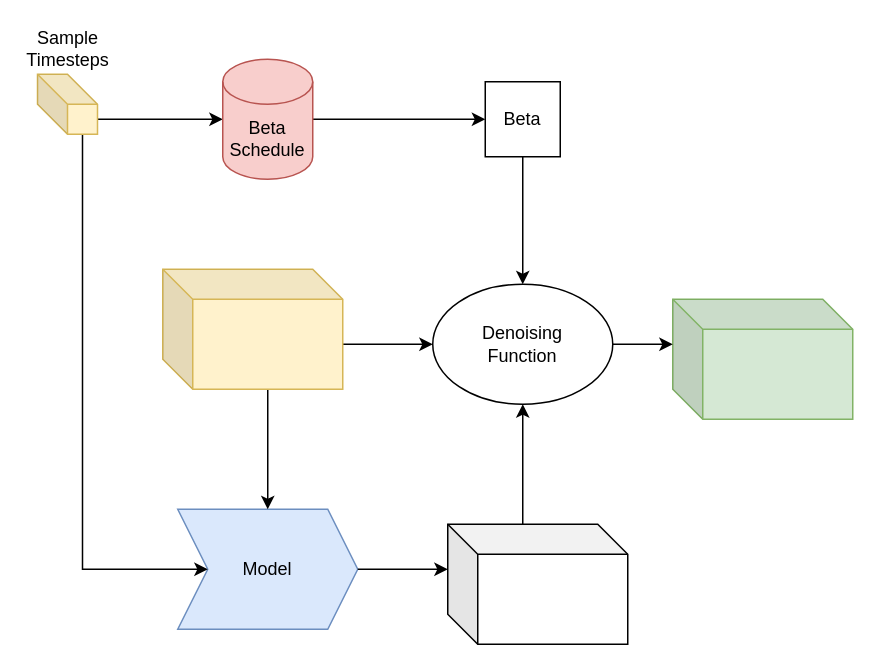
This 879x671 diagram has some shape labels left out. Each missing label, with the centre of its shape:
Gaussian Noises: pixel 252 328
New Images: pixel 762 358
Predicted Noises: pixel 537 583
